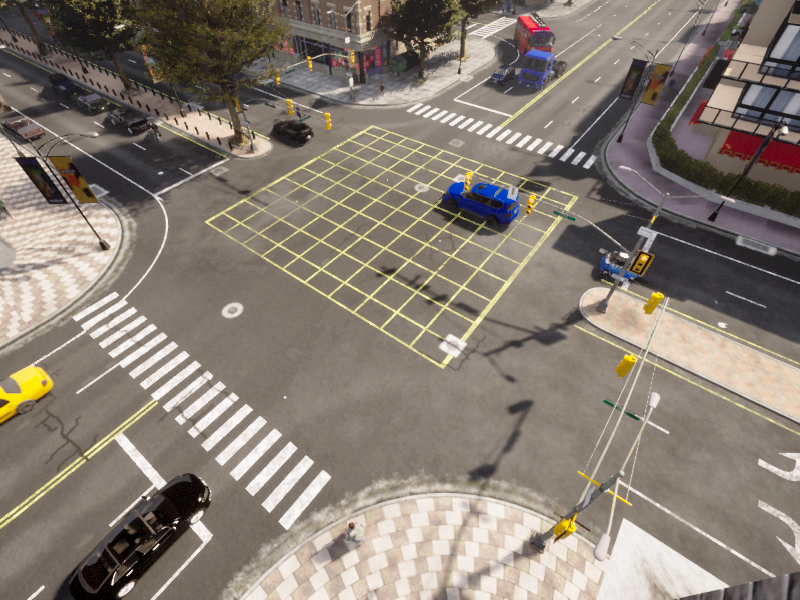vehicle: (438, 167, 525, 232), (100, 99, 157, 138), (592, 242, 642, 284), (266, 110, 315, 145), (144, 118, 171, 145)
